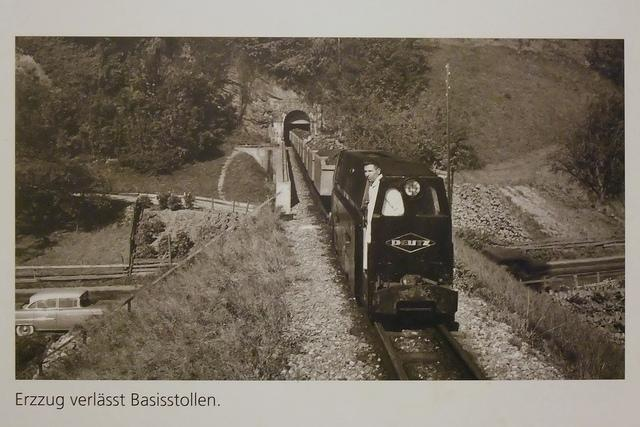car: (17, 290, 124, 336)
